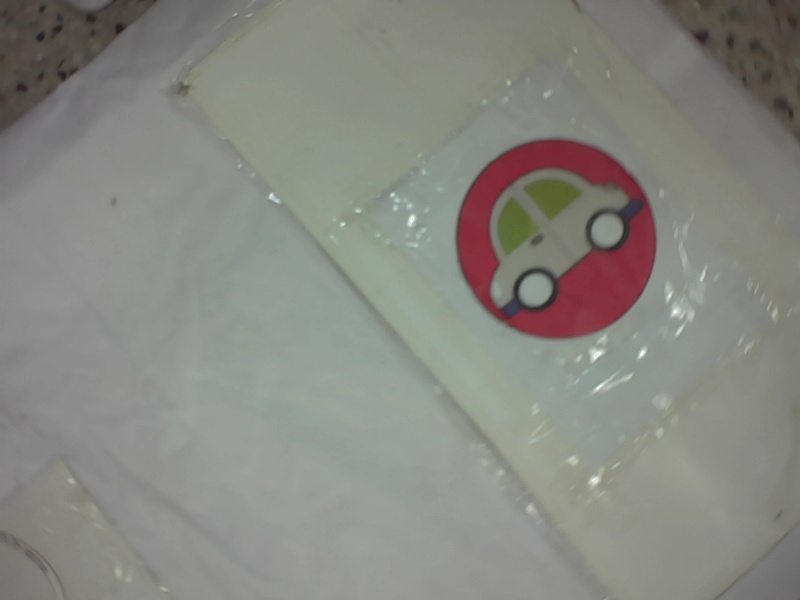areaC: (449, 129, 661, 344)
